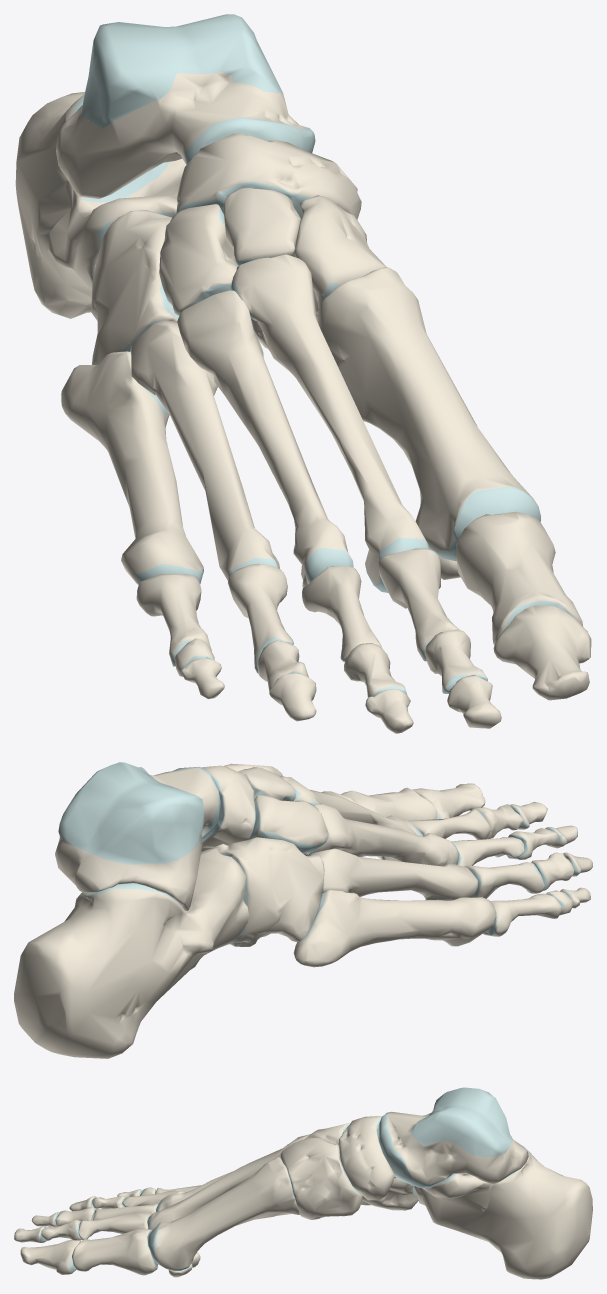
File: foot.glb
3 renders of one model, top to bottom at view 1: azimuth 30°, elevation 25°; view 2: azimuth 150°, elevation 25°; view 3: azimuth 270°, elevation 25°, orthographic. The views are drawn at different scales.
Parts seen in each view (by area): view 1: Talus (right), First metatarsal bone (right), Second metatarsal bone (right), Calcaneus (right), Fifth metatarsal bone (right), Third metatarsal bone (right), Fourth metatarsal bone (right), Navicular bone (right), Proximal phalanx of first finger of foot (right), Cuboid bone (right), Distal phalanx of first finger of foot (right), Lateral cuneiform bone (right) (+13 smaller); view 2: Calcaneus (right), Talus (right), Fifth metatarsal bone (right), Cuboid bone (right), Fourth metatarsal bone (right), Third metatarsal bone (right), Lateral cuneiform bone (right), Navicular bone (right), Second metatarsal bone (right), Proximal phalanx of first finger of foot (right), Proximal phalanx of fourth finger of foot (right), Proximal phalanx of fifth finger of foot (right) (+9 smaller); view 3: Calcaneus (right), Talus (right), First metatarsal bone (right), Medial cuneiform bone (right), Navicular bone (right), Proximal phalanx of first finger of foot (right), Second metatarsal bone (right), Distal phalanx of first finger of foot (right), Proximal phalanx of second finger of foot (right), Cuboid bone (right), Middle phalanx of second finger of foot (right), Proximal phalanx of third finger of foot (right) (+7 smaller).
Boxes of the visible parts, box(x1,y1,x2,y2) form: Talus (right): box(56, 14, 315, 198); First metatarsal bone (right): box(317, 267, 540, 561); Second metatarsal bone (right): box(231, 254, 429, 592); Calcaneus (right): box(15, 92, 186, 318); Fifth metatarsal bone (right): box(61, 351, 203, 584); Third metatarsal bone (right): box(177, 290, 353, 587); Fourth metatarsal bone (right): box(130, 320, 279, 580); Navicular bone (right): box(176, 133, 361, 219); Proximal phalanx of first finger of foot (right): box(456, 511, 582, 645); Cuboid bone (right): box(91, 210, 179, 364); Distal phalanx of first finger of foot (right): box(493, 605, 591, 700); Lateral cuneiform bone (right): box(159, 204, 238, 315); Calcaneus (right): box(14, 848, 248, 1058); Talus (right): box(55, 762, 220, 910); Fifth metatarsal bone (right): box(293, 890, 496, 967); Cuboid bone (right): box(215, 837, 324, 946); Fourth metatarsal bone (right): box(309, 848, 477, 900); Third metatarsal bone (right): box(304, 803, 459, 866); Lateral cuneiform bone (right): box(249, 795, 328, 854); Navicular bone (right): box(201, 765, 255, 847); Second metatarsal bone (right): box(280, 776, 423, 861); Proximal phalanx of first finger of foot (right): box(341, 787, 437, 820); Proximal phalanx of fourth finger of foot (right): box(464, 862, 544, 898); Proximal phalanx of fifth finger of foot (right): box(483, 893, 561, 936); Calcaneus (right): box(413, 1146, 592, 1279); Talus (right): box(379, 1087, 528, 1188); First metatarsal bone (right): box(148, 1157, 299, 1270); Medial cuneiform bone (right): box(280, 1137, 363, 1219); Navicular bone (right): box(339, 1116, 395, 1200); Proximal phalanx of first finger of foot (right): box(72, 1229, 158, 1275); Second metatarsal bone (right): box(147, 1134, 310, 1230); Distal phalanx of first finger of foot (right): box(20, 1240, 80, 1274); Proximal phalanx of second finger of foot (right): box(78, 1212, 150, 1239); Cuboid bone (right): box(362, 1178, 418, 1210); Middle phalanx of second finger of foot (right): box(41, 1219, 81, 1240); Proximal phalanx of third finger of foot (right): box(92, 1204, 157, 1220).
Bounding box in the file's own units: 0.0937 × 0.0763 × 0.2289.
